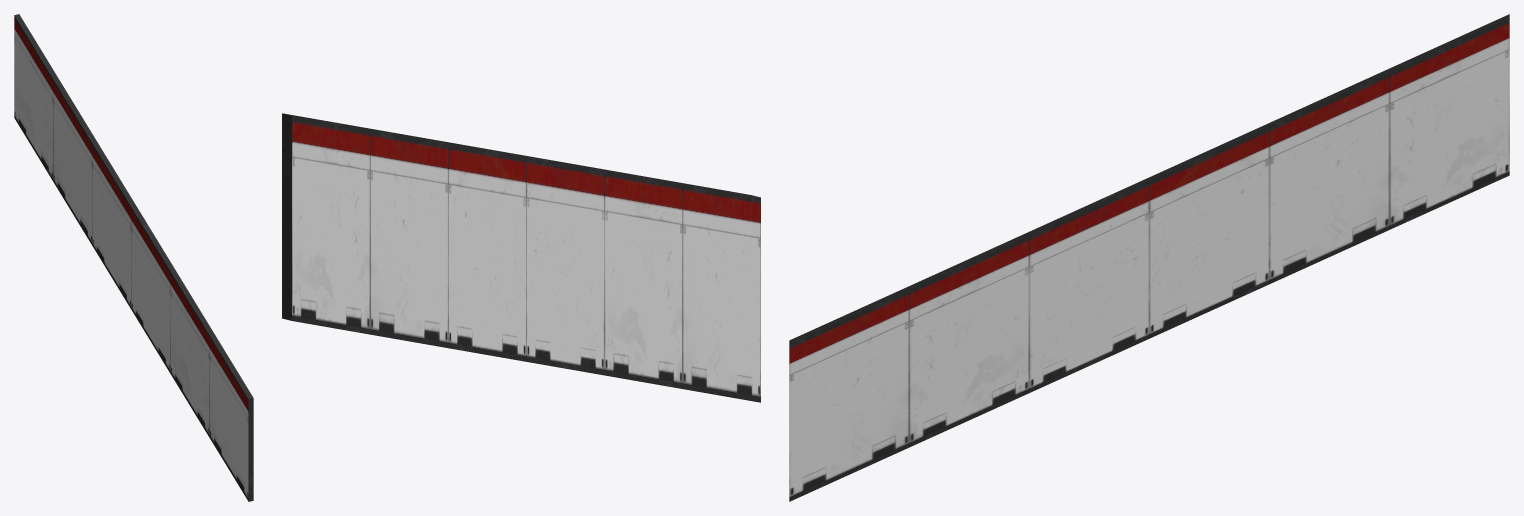
File: Subway_Stairs_Barrier_Panel.fbx
3 renders of one model, left to right at view 1: azimuth 30°, elevation 25°; view 2: azimuth 150°, elevation 25°; view 3: azimuth 270°, elevation 25°, orthographic. The views are drawn at different scales.
Parts seen in each view (by area): view 1: polySurface142; view 2: polySurface142; view 3: polySurface142.
Part boxes in pixels (<box>): polySurface142: <box>14,14,253,501</box>; polySurface142: <box>282,113,760,402</box>; polySurface142: <box>789,14,1509,501</box>.
Bounding box in the file's own units: 4.94 × 297 × 400.
